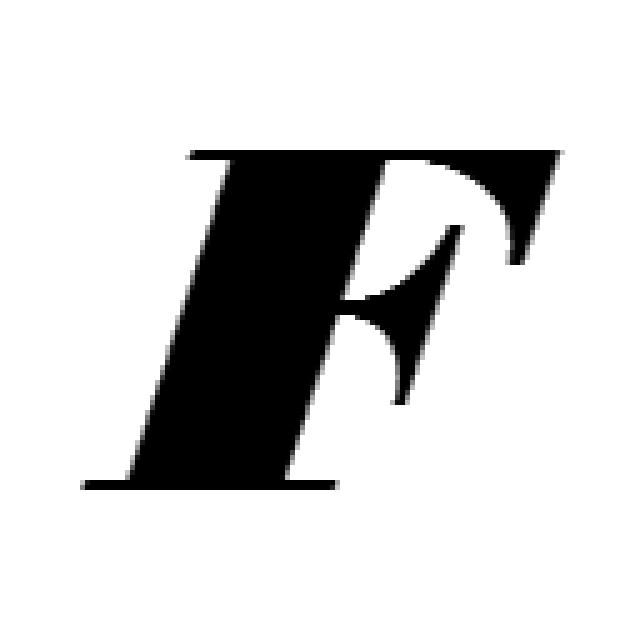F: (127, 148, 562, 497)
